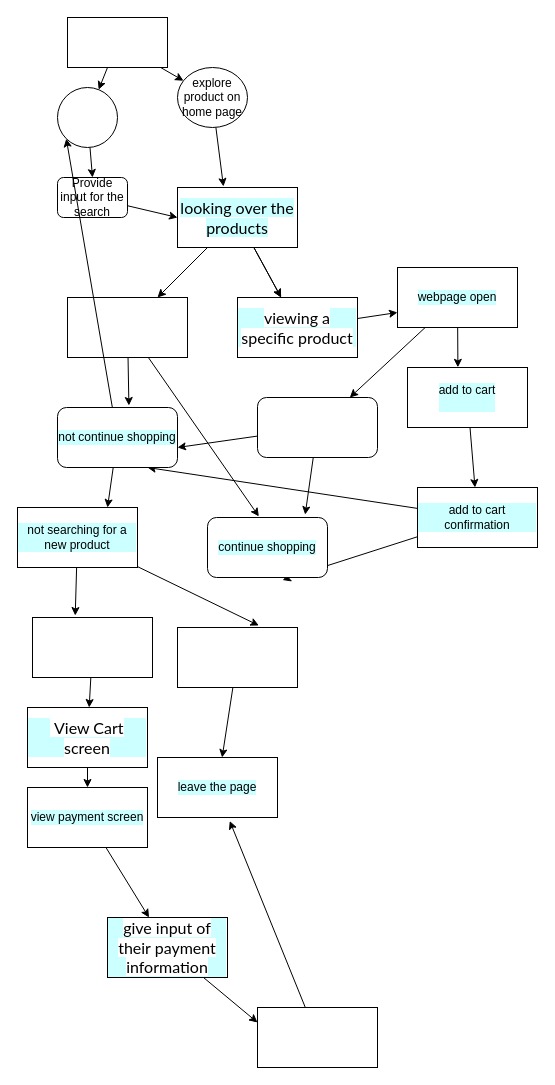
Some shapes in this 555 by 1085 pixel diagram are drawn without their labels. The shapes that lost their labels are listed below. From the top down, each one's centre as x and y in pixels, then its label:
pixel 117 42: Enter the website
pixel 87 117: search for a product
pixel 127 327: not viewing a specific product
pixel 317 427: not add to cart
pixel 92 647: checkout
pixel 237 657: not checkout
pixel 317 1037: order confirmation screen(paid)
